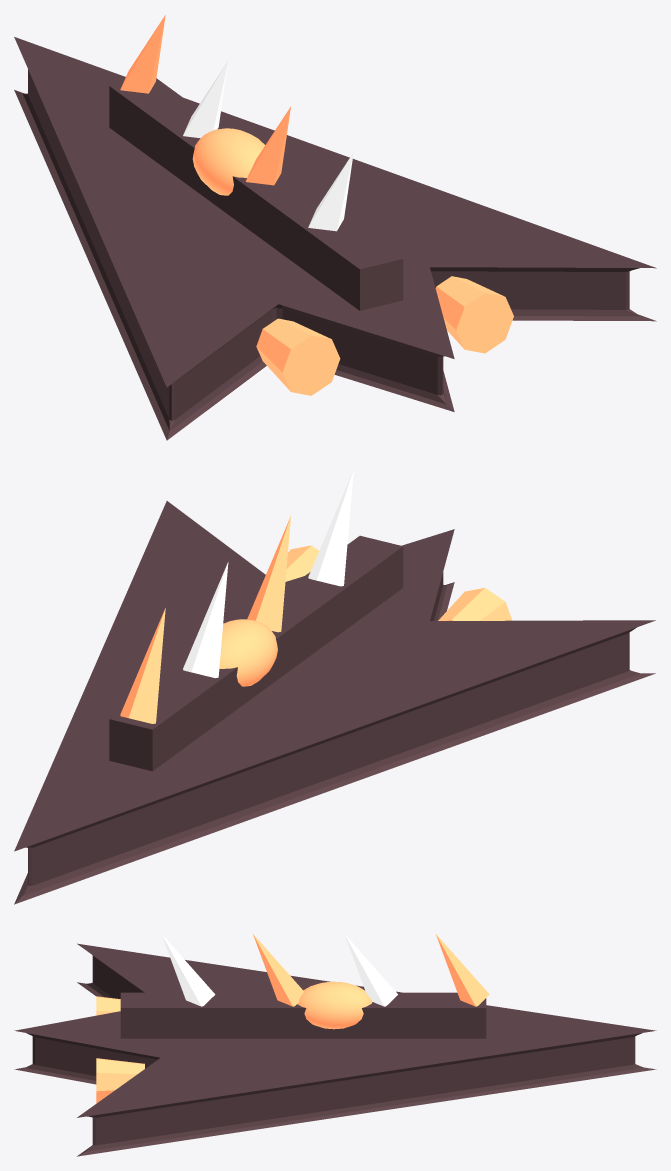
The model's file is nave_xeno.glb.
The picture shows the model from 3 angles, top to bottom: view 1: azimuth 30°, elevation 25°; view 2: azimuth 150°, elevation 25°; view 3: azimuth 270°, elevation 25°; orthographic projection. The views are drawn at different scales.
Parts seen in each view (by area): view 1: nave_xeno; view 2: nave_xeno; view 3: nave_xeno.
Part boxes in pixels (x1,y1,x2,y2): nave_xeno: [14, 15, 656, 440]; nave_xeno: [14, 470, 655, 904]; nave_xeno: [14, 933, 656, 1156].
Size of the model in its own units: 0.6773 by 0.2514 by 1.05.
